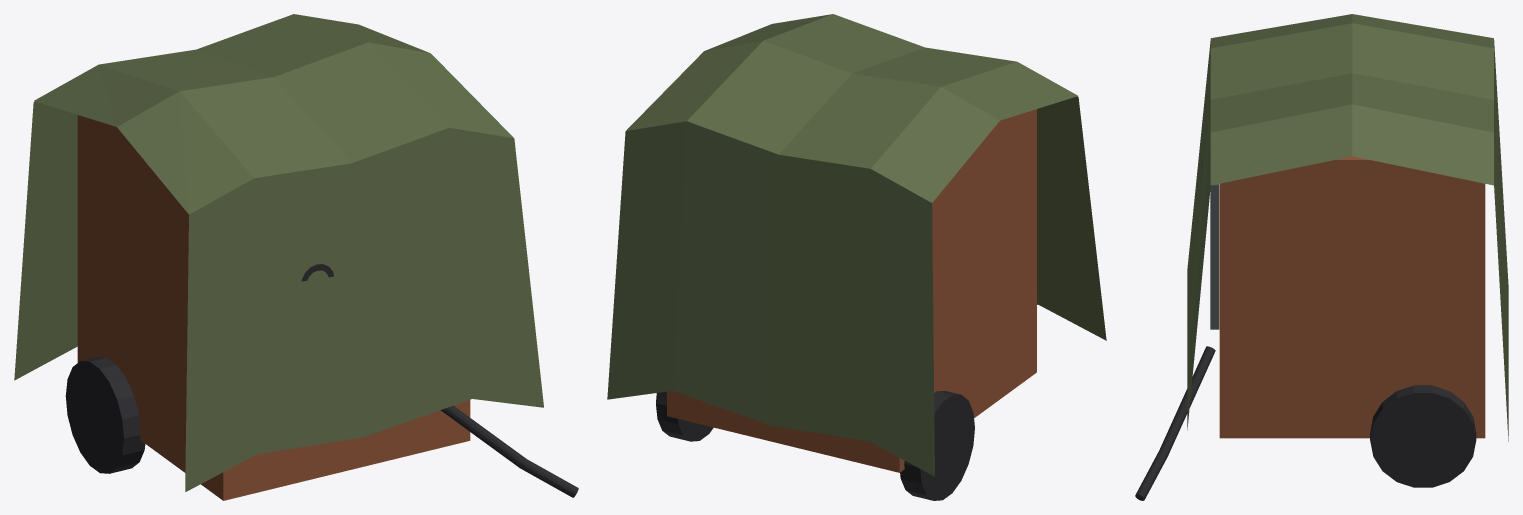
The model's file is SHOP_OldWelderTarped.glb.
3 renders of one model, left to right at view 1: azimuth 30°, elevation 25°; view 2: azimuth 150°, elevation 25°; view 3: azimuth 270°, elevation 25°, orthographic. The views are drawn at different scales.
Parts seen in each view (by area): view 1: Tarp, TransformerCase, Wheels, FrayedLead; view 2: Tarp, TransformerCase, Wheels; view 3: TransformerCase, Tarp, Wheels, FrayedLead, DeadPanel.
Boxes of the visible parts, x1,y1,x2,y2 form: Tarp: [14, 14, 543, 491]; TransformerCase: [77, 115, 470, 500]; Wheels: [65, 357, 145, 473]; FrayedLead: [440, 405, 578, 497]; Tarp: [607, 14, 1106, 476]; TransformerCase: [667, 109, 1036, 472]; Wheels: [656, 390, 974, 500]; TransformerCase: [1219, 156, 1485, 438]; Tarp: [1187, 14, 1508, 441]; Wheels: [1370, 385, 1476, 487]; FrayedLead: [1135, 346, 1215, 500]; DeadPanel: [1210, 184, 1219, 329].
Size of the model in its own units: 0.656 by 0.6786 by 0.6331.
